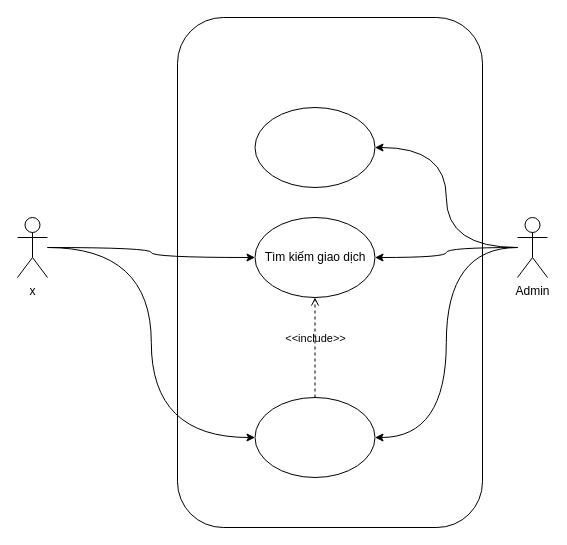
Image size: 567x545. Some labels were removed from this diagram. Each missing label, with the centre of its shape:
"Giám sát giao dịch" belongs at point (314, 147).
"Lịch sử giao dịch" belongs at point (314, 437).
